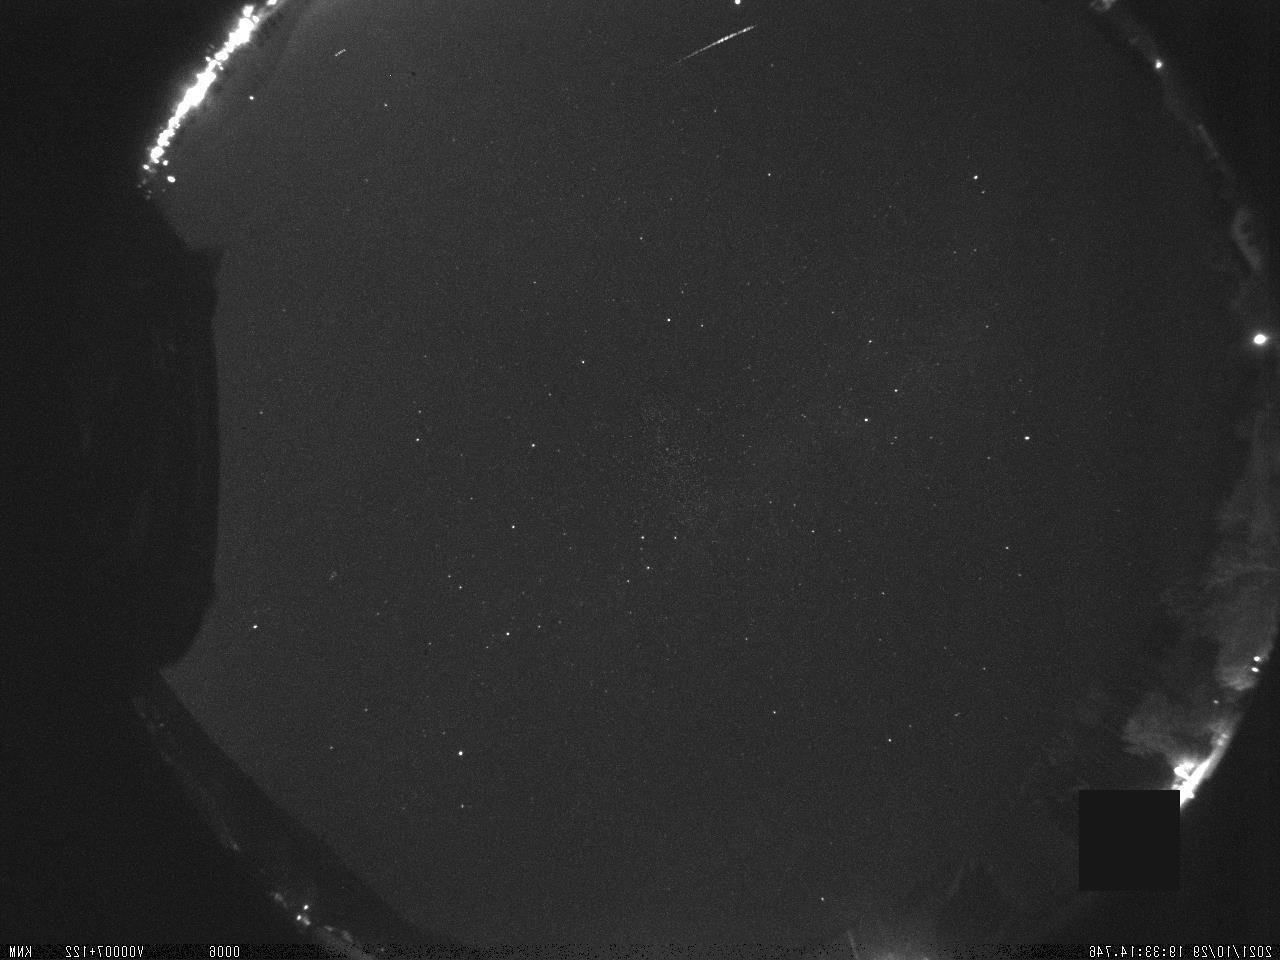meteor: (663, 21, 764, 72)
